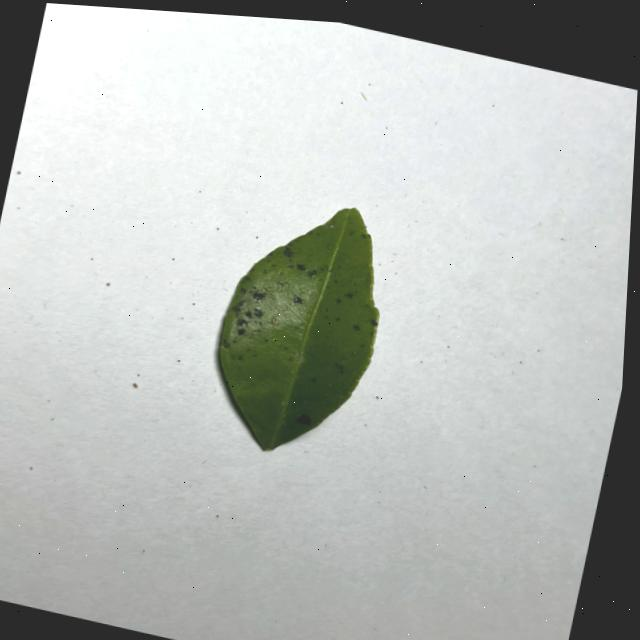sooty_mold: (221, 208, 378, 449)
